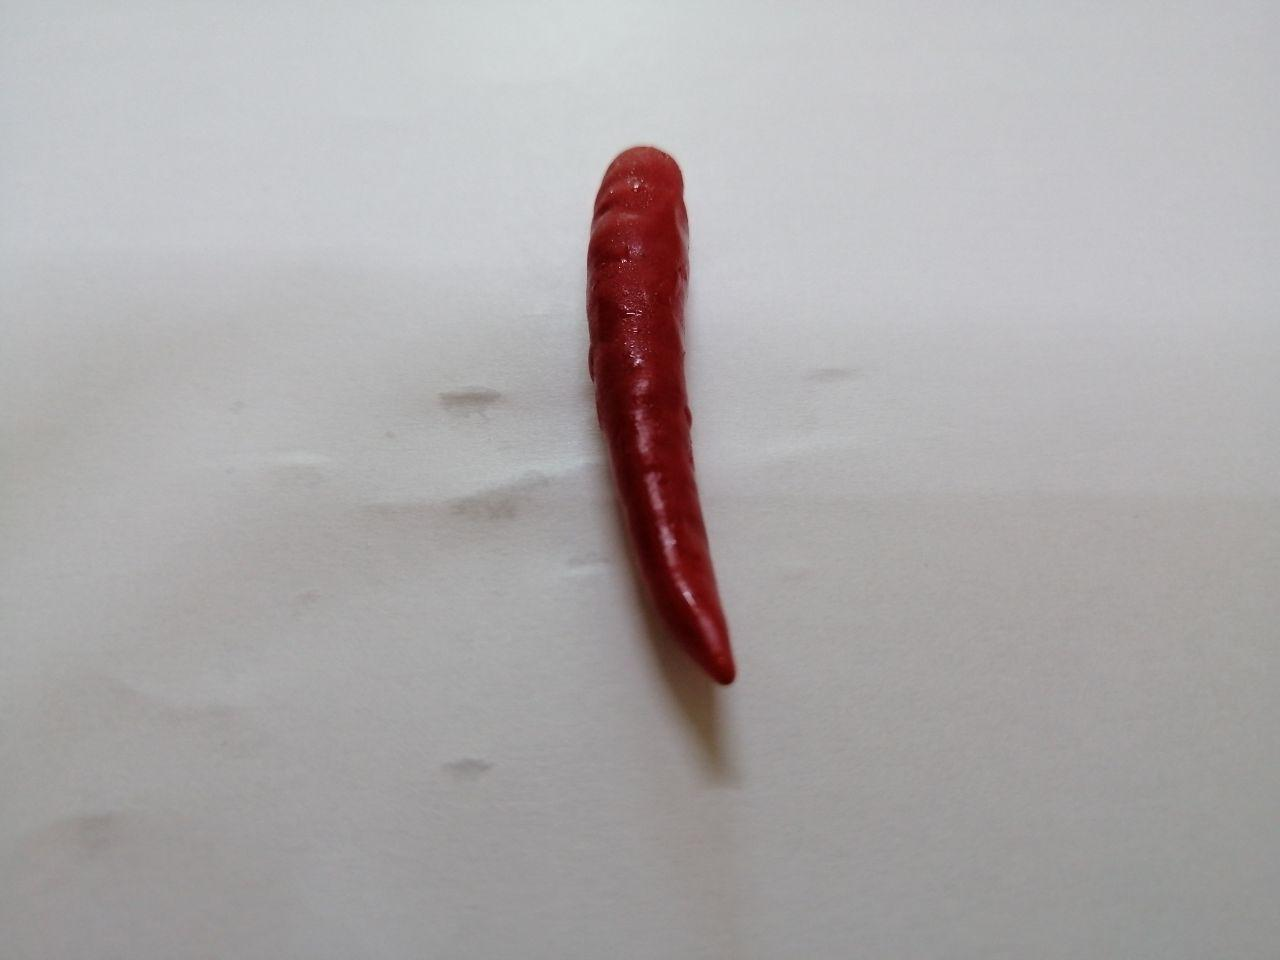lada merah: (518, 119, 771, 703)
